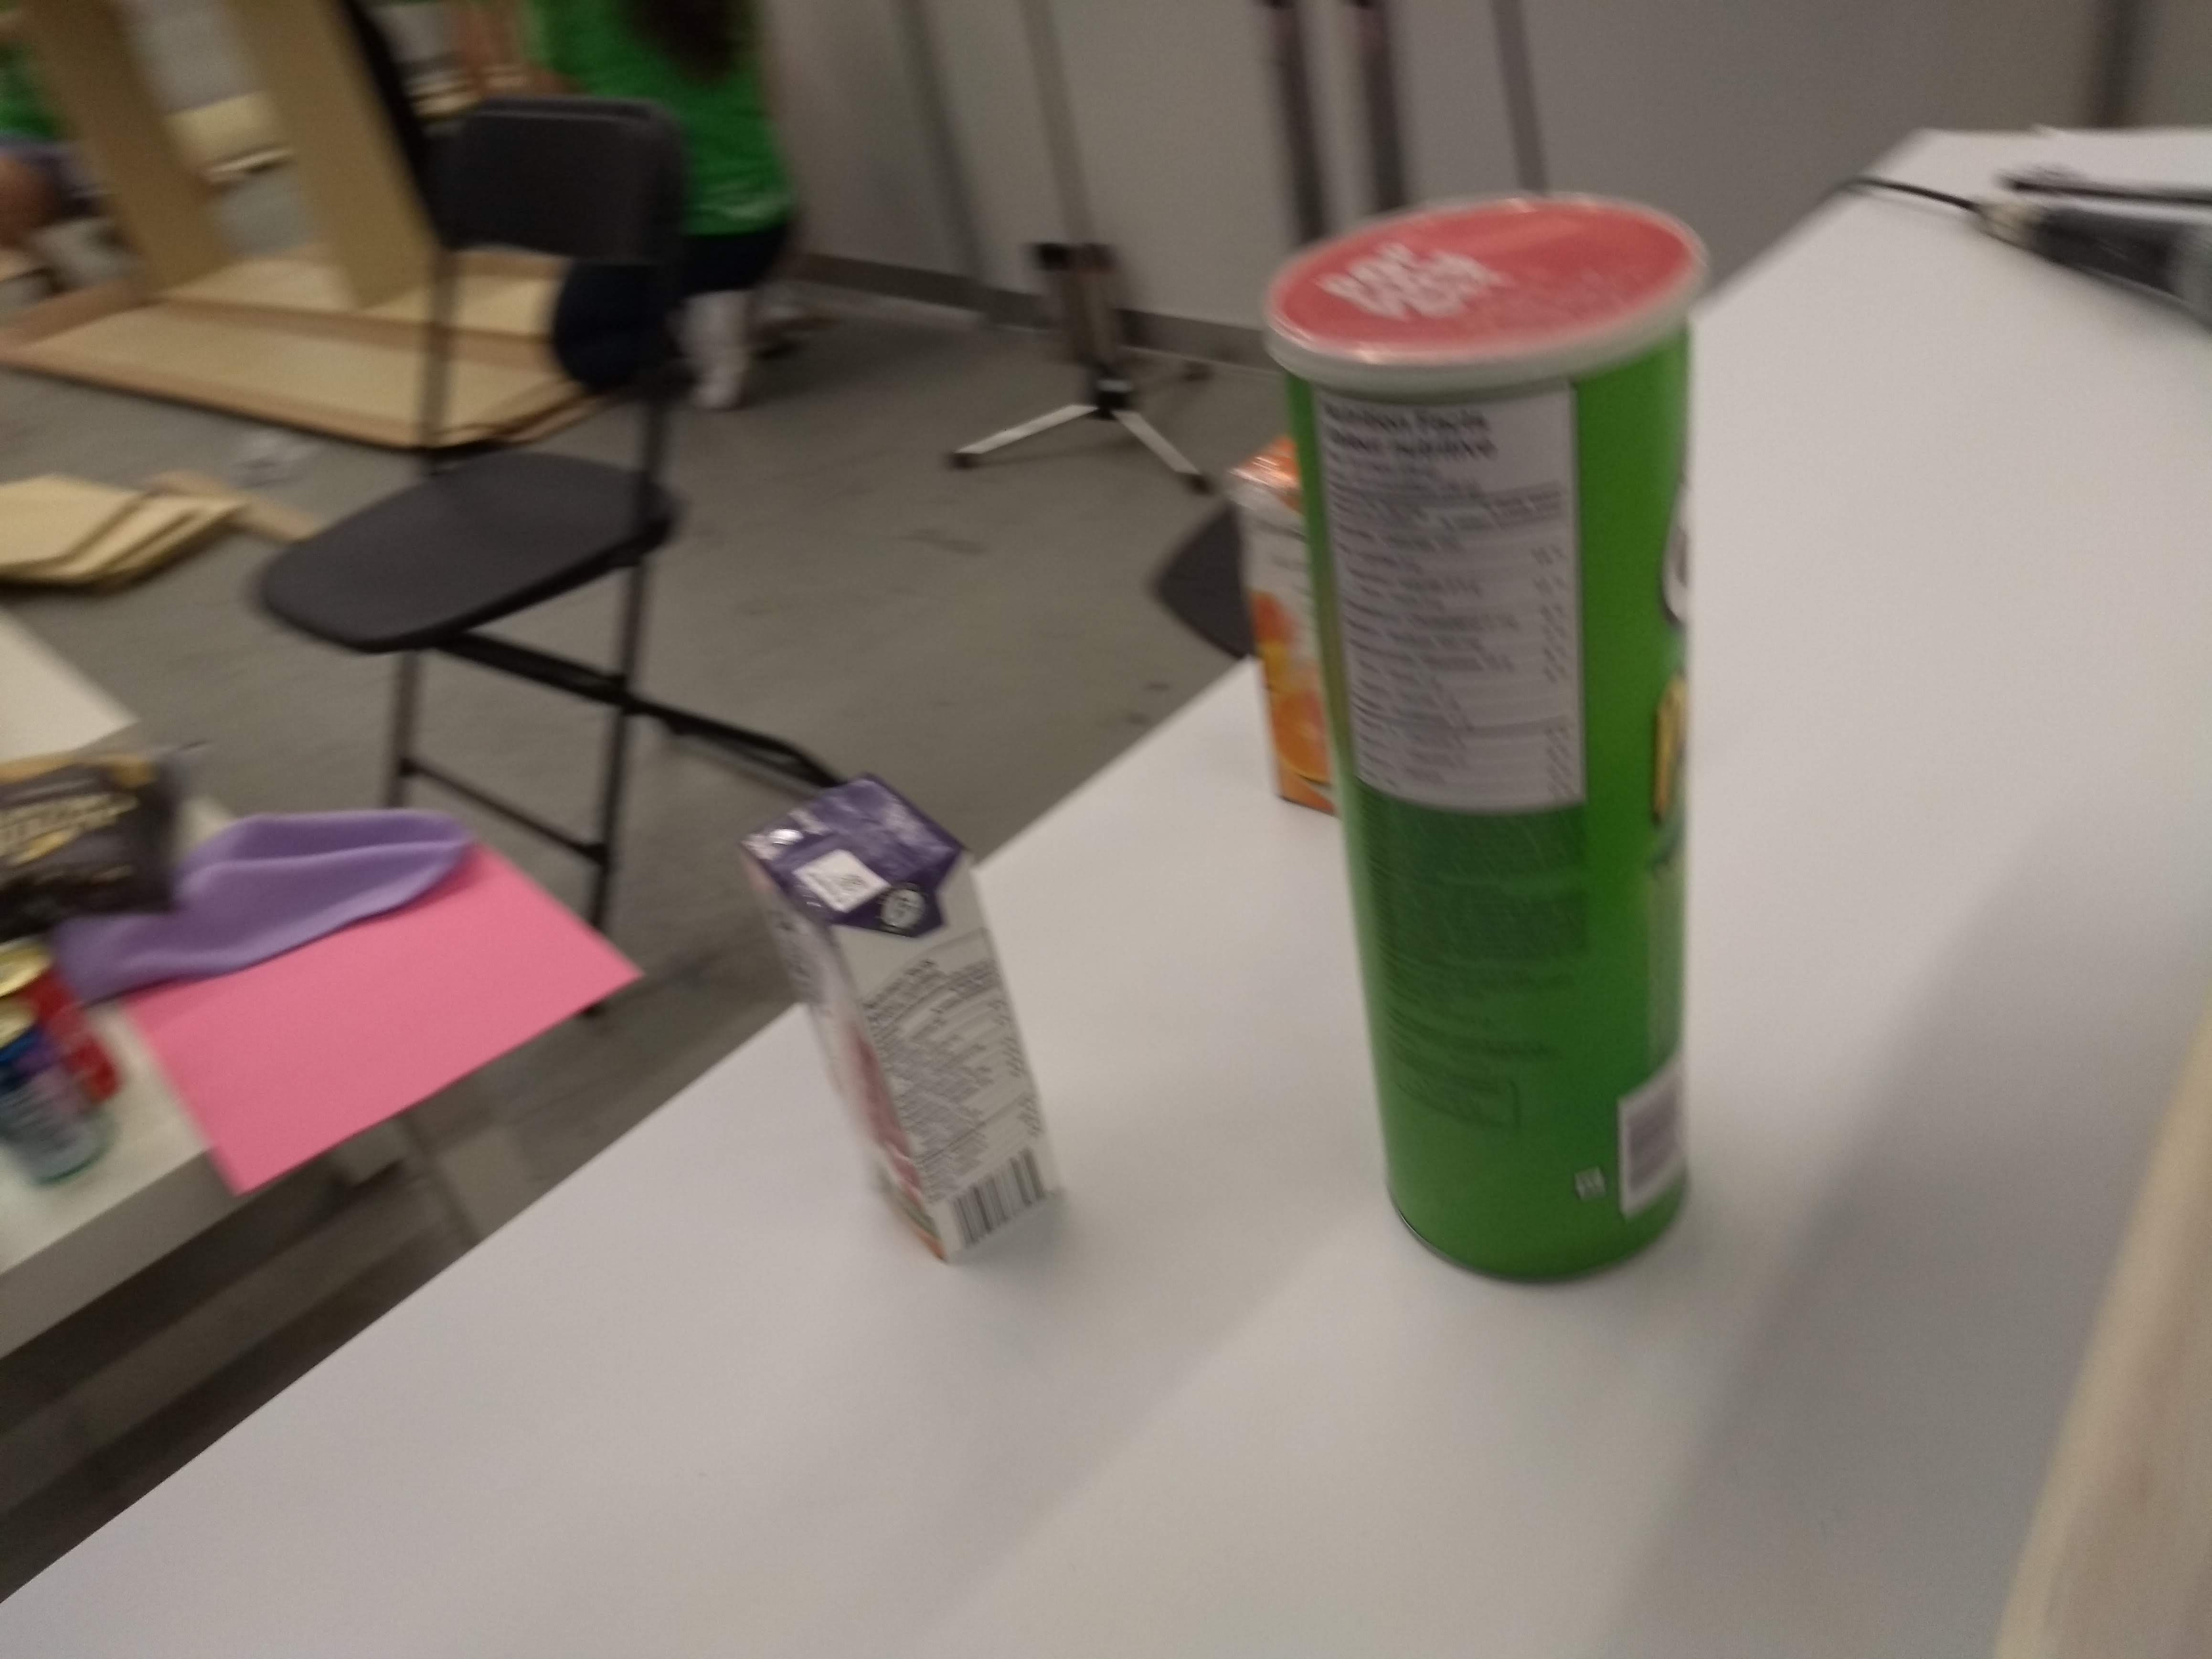grape_juice: (725, 762, 1080, 1283)
pringles: (1247, 183, 1723, 1295)
